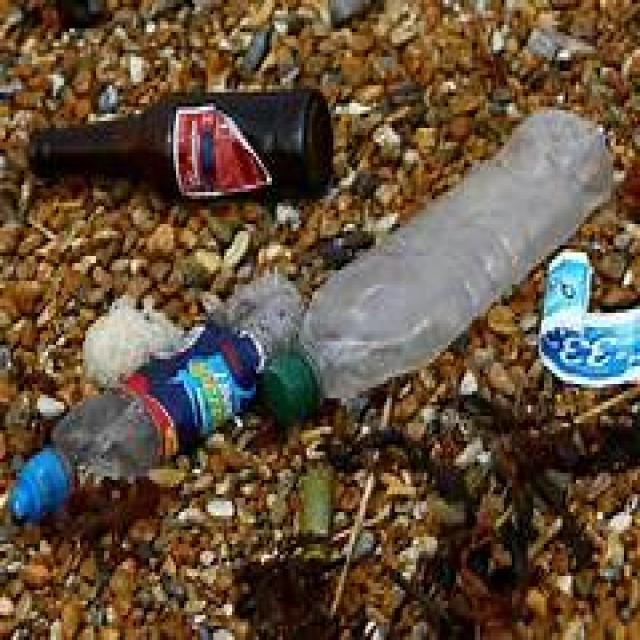plasticbottle: (257, 109, 614, 412), (15, 272, 300, 519)
